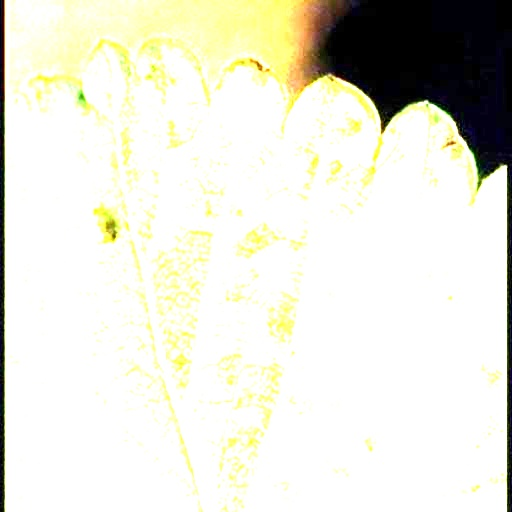Angular Leafspot: (8, 35, 507, 511)
